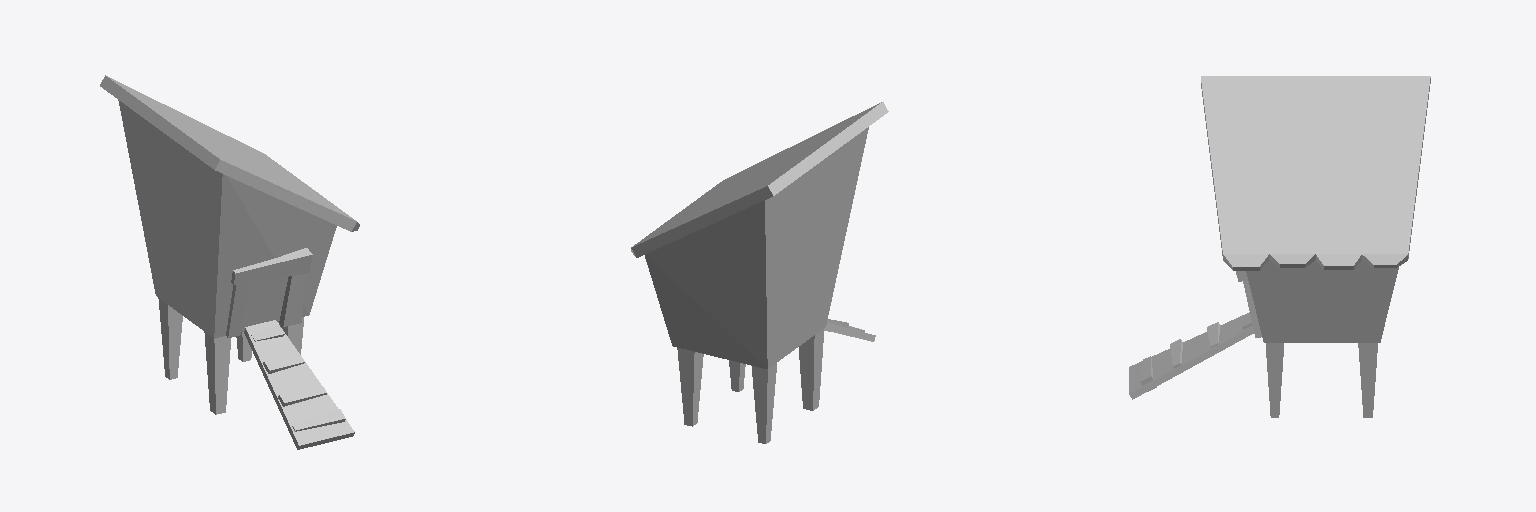
The model's file is Chicken coop.obj.
3 views of the same model, side by side, from view 1: azimuth 30°, elevation 25°; view 2: azimuth 150°, elevation 25°; view 3: azimuth 270°, elevation 25° (orthographic).
Parts seen in each view (by area): view 1: Coop_Cube.002; view 2: Coop_Cube.002; view 3: Coop_Cube.002.
Boxes of the visible parts, box(x1,y1,x2,y2) form: Coop_Cube.002: box(100, 75, 359, 449); Coop_Cube.002: box(631, 102, 888, 443); Coop_Cube.002: box(1129, 76, 1430, 417).
Size of the model in its own units: 2.15 by 3.63 by 3.45.